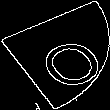O_NW: (13, 22, 97, 88)
